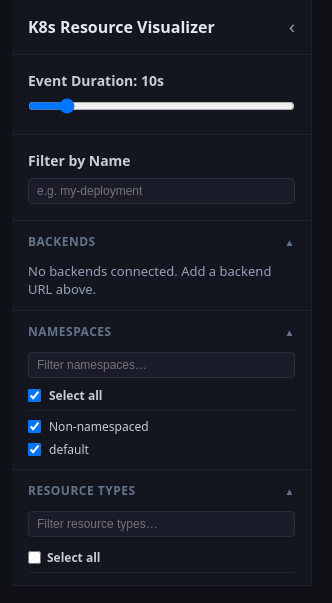
Test: Sidebar › collapses and expands namespaces section
Expected: the text "default" is shown, [28,441,89,458]
What coordinates should you click on to do the following:
click the button "Namespaces ▲"
I would click on:
 (70, 332)
Its box is [12,311,311,352].
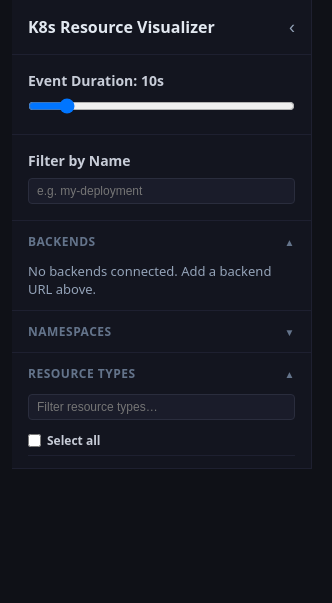
Now the text "default" is gone
What coordinates should you click on to do the following:
click the button "Namespaces ▼"
I would click on:
 (70, 332)
Its box is [12,311,311,352].
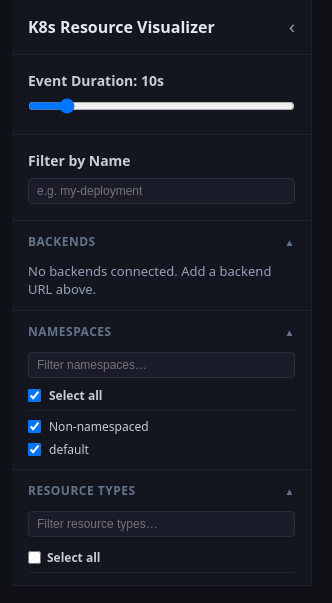
Now the text "default" is shown, box [28,441,89,458]
